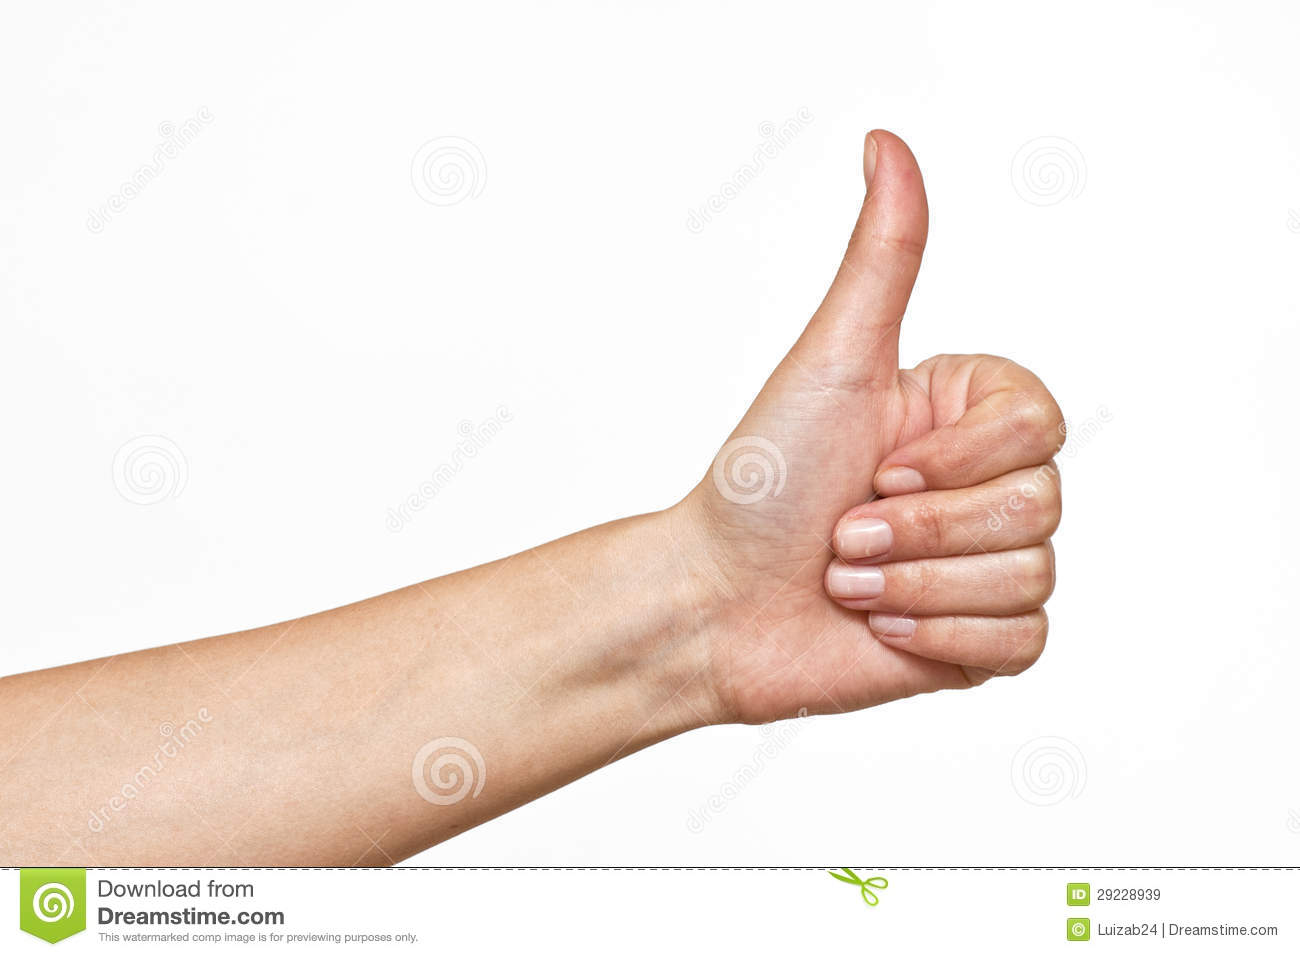finger: (857, 345, 1082, 500), (836, 459, 1069, 565), (824, 550, 1062, 614), (866, 605, 1053, 671)
